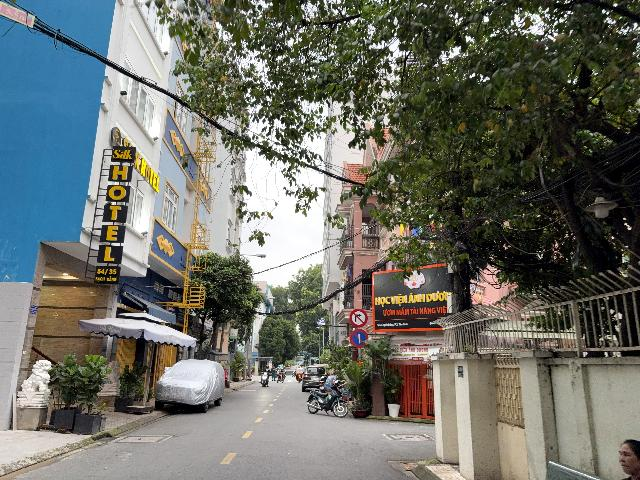cam-do-xe-ngay-le: (349, 328, 368, 348)
cam-re-phai: (350, 309, 368, 328)
